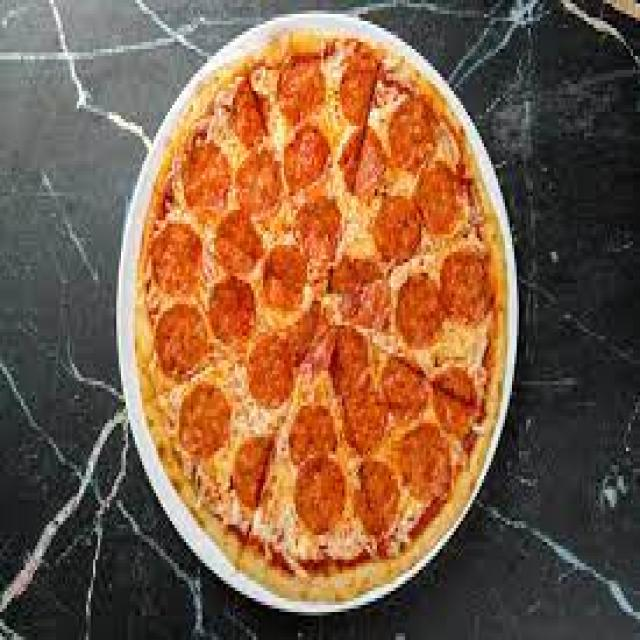Pizza: (140, 17, 511, 589)
